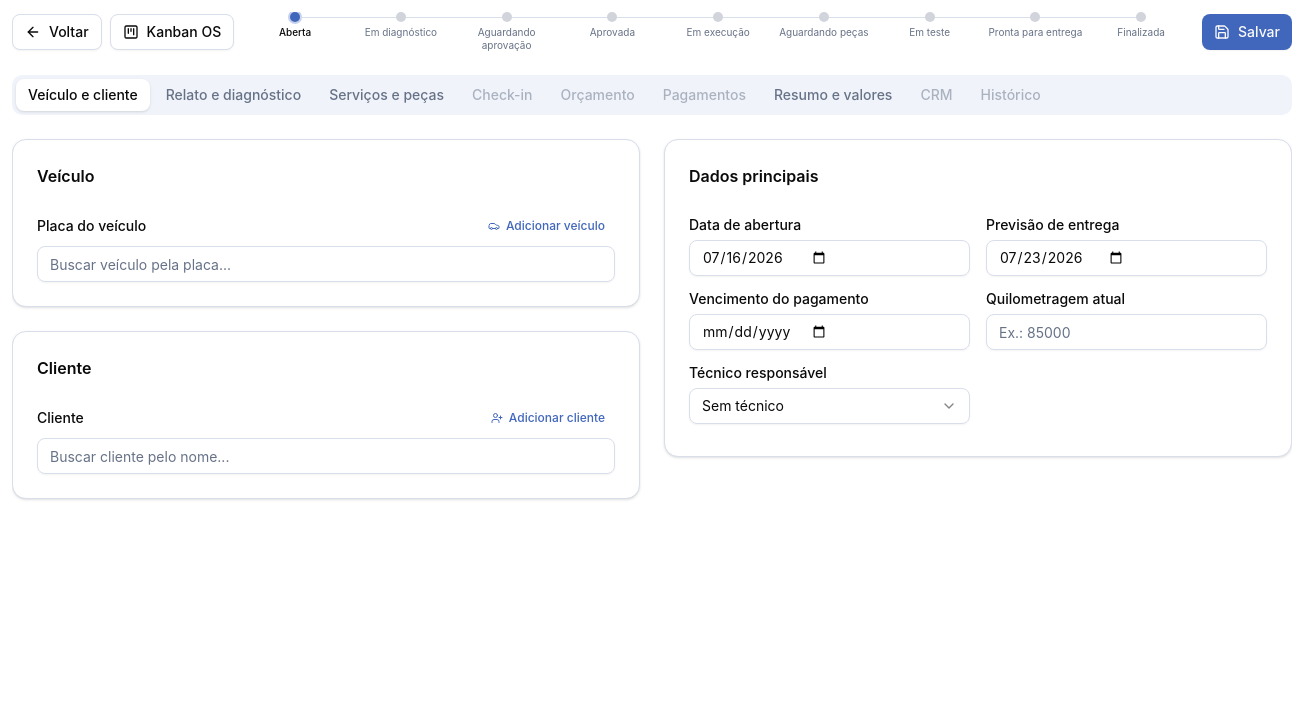
Test case: OrderForm › blocks submit and jumps to the first tab with errors
The image size is (1304, 719).
What coordinates should you click on to do the following:
click the button "Salvar"
I would click on:
 (1247, 32)
Its box is [1202,14,1292,50].
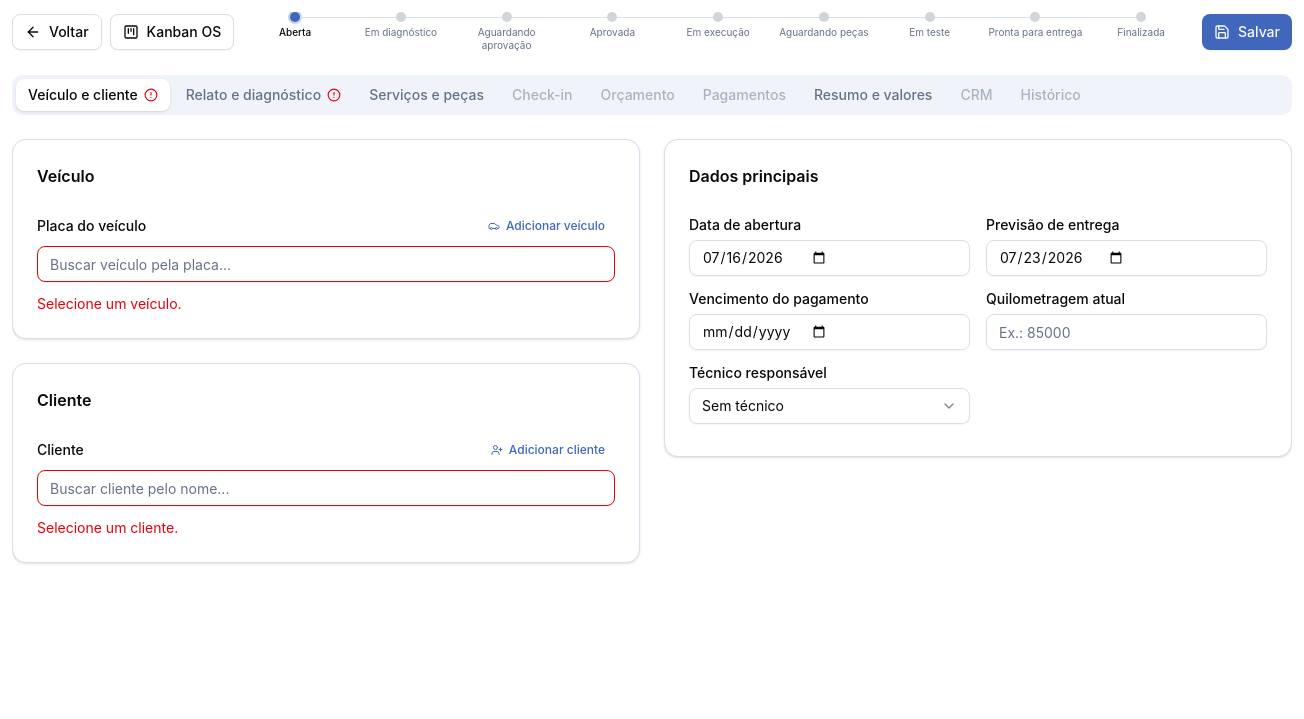
Expected: the text "Selecione um veículo." is shown, [37,295,182,312]
Expected: the text "Selecione um cliente." is shown, [37,519,178,536]
Expected: the 2nd icon named "Contém erros" is shown, [327,88,341,102]
// ...and its error is visible once that tab is opened.
What coordinates should you click on to do the following:
click the tab "Relato e diagnóstico"
I would click on:
 (263, 95)
Its box is [174,79,353,111].
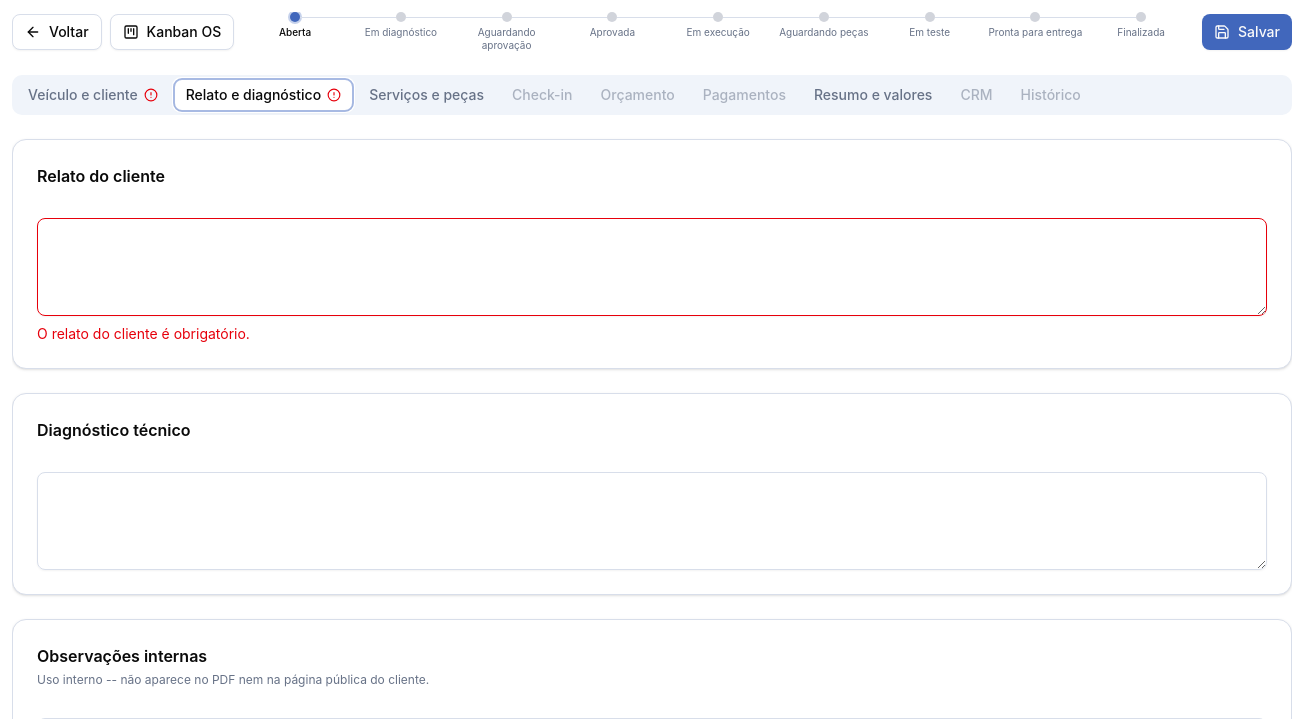
Expected: the text "O relato do cliente é obrigatório." is shown, [37,325,250,342]
